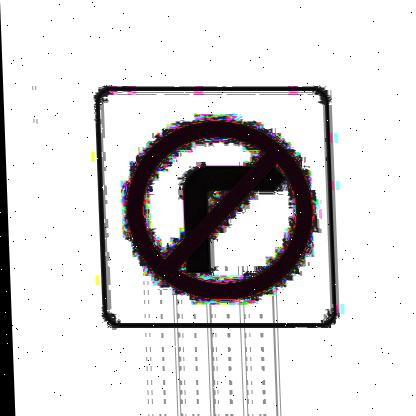No right turn: (122, 108, 313, 304)
